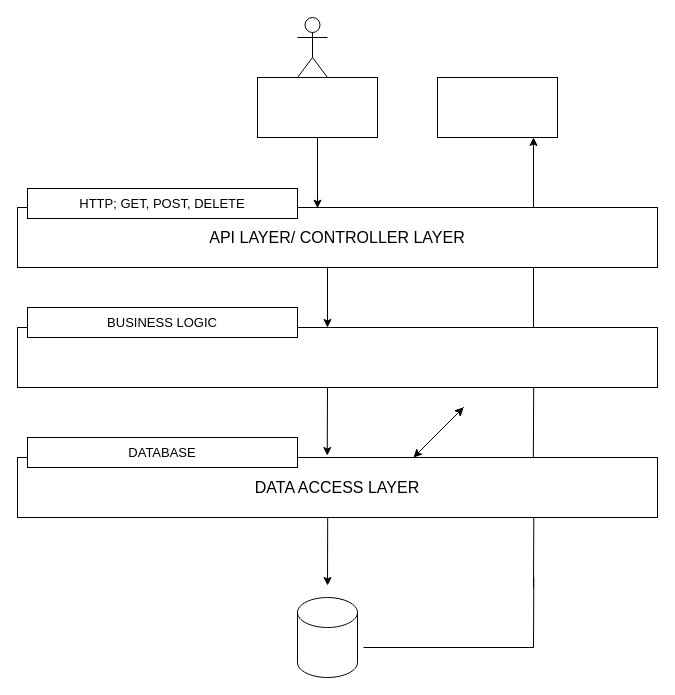
This 675x695 diagram has some shape labels left out. The shapes that lost their labels are listed below. From the top down, each one's centre as x and y in pixels, then its label:
point (317, 107): REQUEST
point (497, 107): RESPONSE
point (337, 357): SERVICE LAYER
